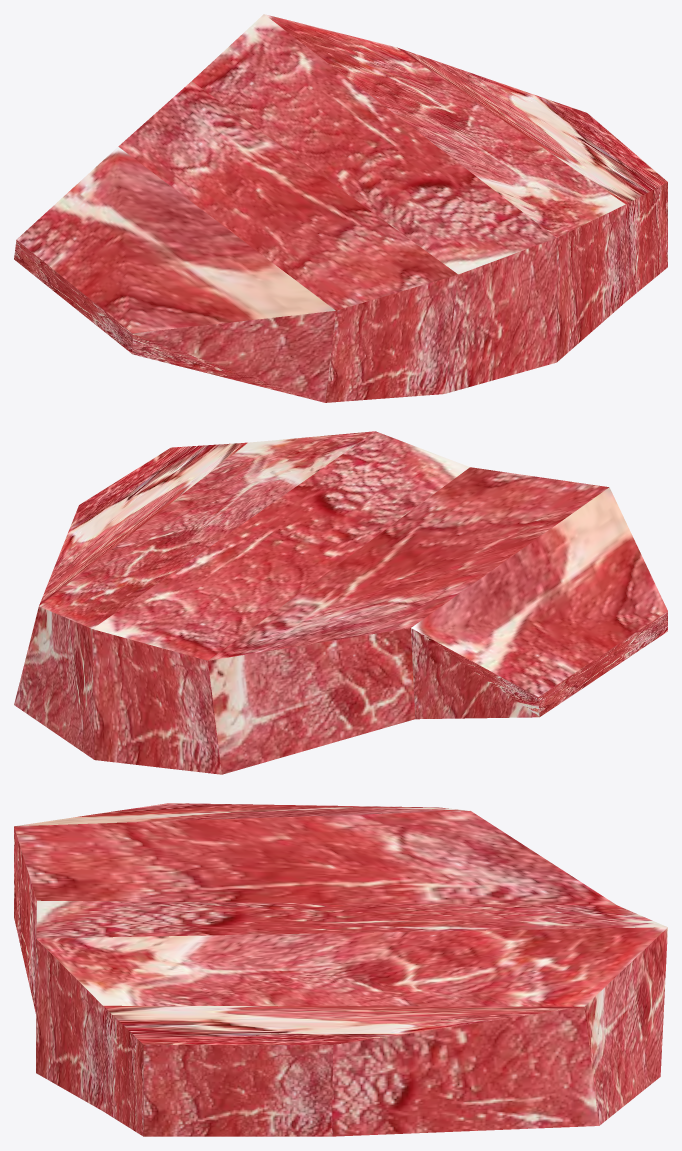
File: Raw_Meat.glb
3 renders of one model, top to bottom at view 1: azimuth 30°, elevation 25°; view 2: azimuth 150°, elevation 25°; view 3: azimuth 270°, elevation 25°, orthographic. The views are drawn at different scales.
Parts seen in each view (by area): view 1: Object_2, Object_3; view 2: Object_2, Object_3; view 3: Object_2, Object_3.
Part boxes in pixels (bbox=[...]): Object_2: bbox=[16, 14, 667, 333]; Object_3: bbox=[14, 182, 667, 402]; Object_2: bbox=[39, 431, 667, 696]; Object_3: bbox=[14, 606, 667, 774]; Object_2: bbox=[14, 803, 667, 1044]; Object_3: bbox=[14, 827, 667, 1136].
Bounding box in the file's own units: 0.45 × 0.1128 × 0.4442.
2 materials, 2 textured.
